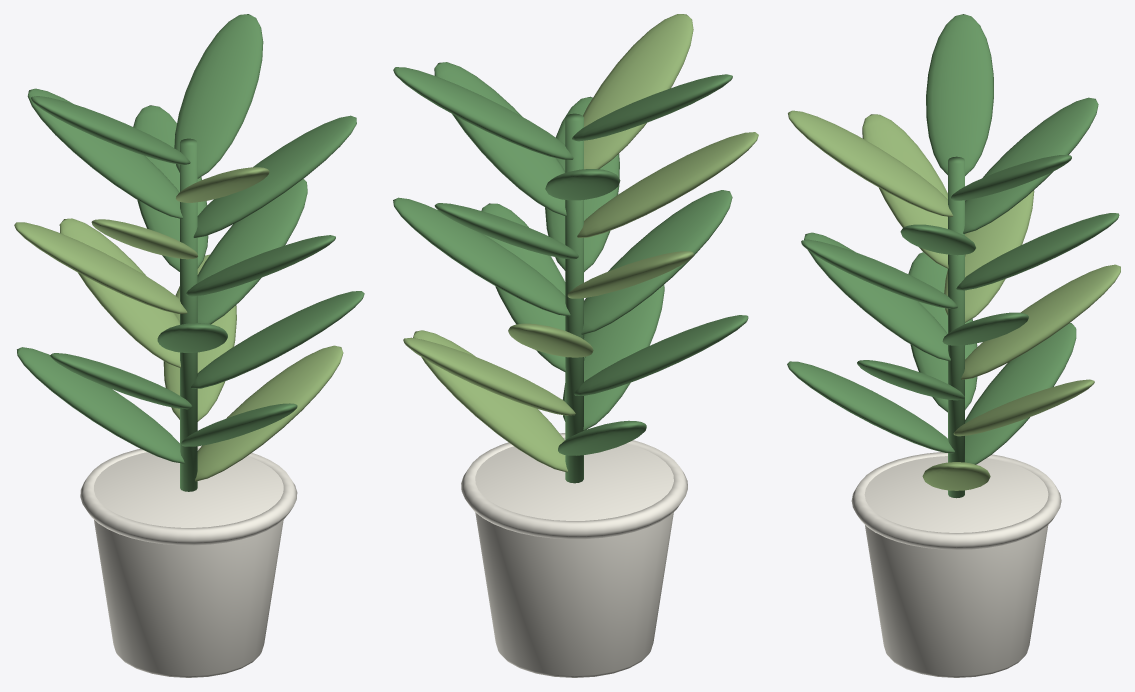
Rendered from atelier-monstera-style-plant.glb.
The picture shows the model from 3 angles, left to right: view 1: azimuth 30°, elevation 25°; view 2: azimuth 150°, elevation 25°; view 3: azimuth 270°, elevation 25°; orthographic projection. The views are drawn at different scales.
Parts seen in each view (by area): view 1: leaf.010, ceramic.046, leafLight.008; view 2: leaf.010, ceramic.046, leafLight.008; view 3: leaf.010, ceramic.046, leafLight.008.
Boxes of the visible parts, left/top/right/bottom form: leaf.010: left=17, top=14, right=364, bottom=491; ceramic.046: left=80, top=445, right=297, bottom=677; leafLight.008: left=14, top=167, right=343, bottom=481; leaf.010: left=393, top=62, right=748, bottom=483; ceramic.046: left=461, top=433, right=687, bottom=677; leafLight.008: left=403, top=14, right=758, bottom=472; leaf.010: left=787, top=14, right=1119, bottom=498; ceramic.046: left=851, top=452, right=1061, bottom=677; leafLight.008: left=788, top=110, right=1120, bottom=490.
Bounding box in the file's own units: 0.5998 × 1.1 × 0.5886.
